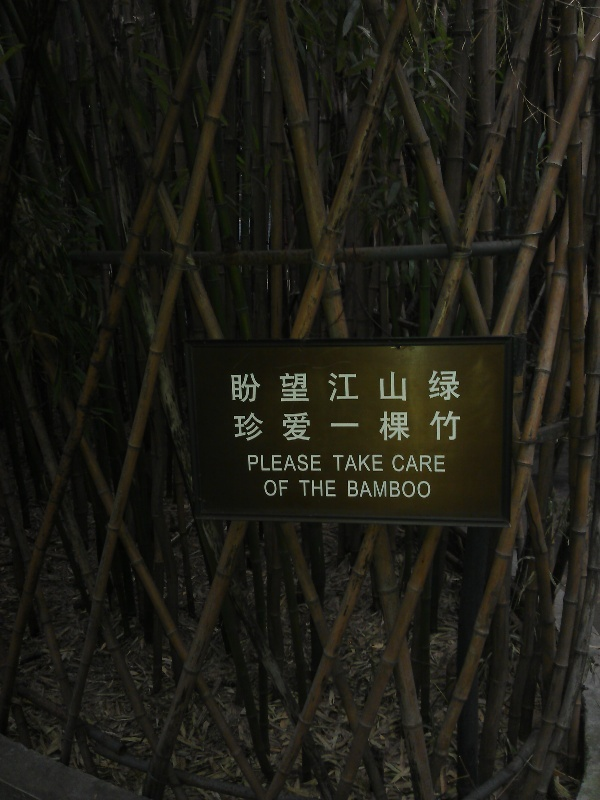text: (241, 369, 256, 404), (257, 369, 272, 404), (273, 369, 288, 404), (289, 369, 304, 404), (305, 369, 320, 404), (321, 369, 336, 404), (337, 369, 352, 404), (353, 369, 368, 404), (369, 369, 384, 404), (385, 369, 400, 404), (401, 369, 416, 404), (417, 369, 432, 404), (433, 369, 448, 404), (241, 410, 256, 442), (257, 410, 272, 442), (273, 410, 288, 442), (289, 410, 304, 442), (305, 410, 320, 442), (321, 410, 336, 442), (337, 410, 352, 442), (353, 410, 368, 442), (369, 410, 384, 442), (385, 410, 400, 442), (401, 410, 416, 442), (417, 410, 432, 442), (433, 410, 448, 442), (449, 369, 461, 404), (449, 410, 462, 442), (230, 369, 240, 404), (321, 478, 337, 497), (257, 454, 272, 474), (273, 454, 288, 474), (289, 454, 304, 474), (305, 454, 320, 474), (401, 454, 416, 474), (417, 454, 432, 474), (337, 454, 352, 473), (353, 454, 368, 473), (369, 454, 384, 473), (305, 478, 320, 497), (353, 480, 368, 499), (369, 480, 384, 499), (385, 480, 400, 499), (401, 480, 416, 499), (417, 480, 432, 499), (433, 454, 447, 474), (273, 479, 288, 497), (233, 410, 240, 442), (263, 479, 272, 497), (248, 454, 256, 474), (392, 454, 400, 474), (299, 478, 304, 497), (347, 480, 352, 499), (332, 454, 336, 473), (321, 454, 322, 474), (289, 479, 290, 497)
